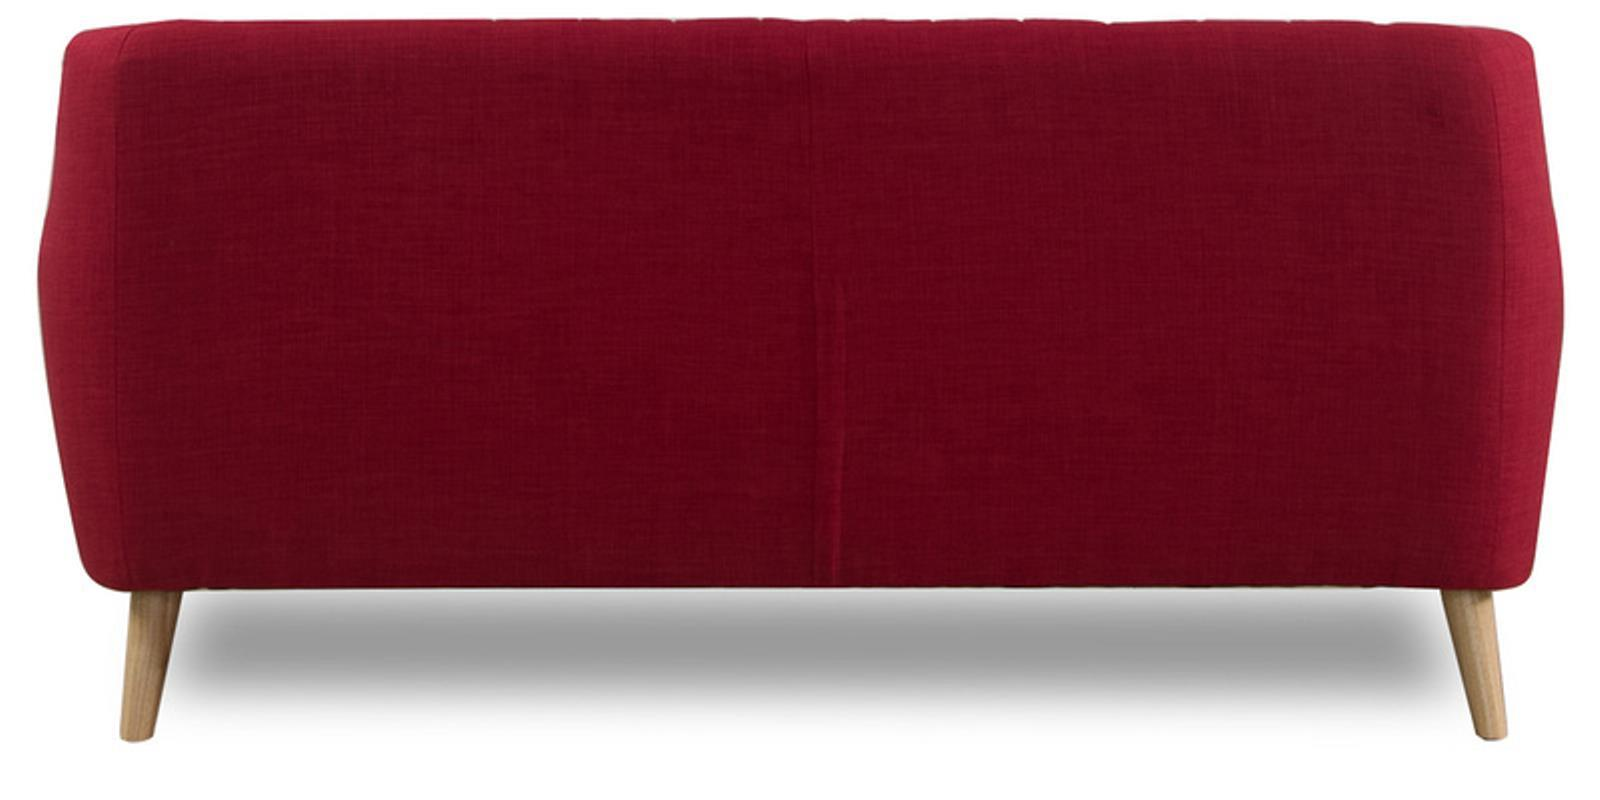Managua Three Seater Sofa in Red Colour by CasaCraft: (38, 18, 1566, 741)
